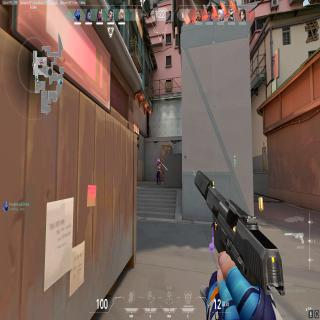ENEMY-BODY: (156, 158, 161, 186)
ENEMY-HEAD: (158, 158, 160, 163)
